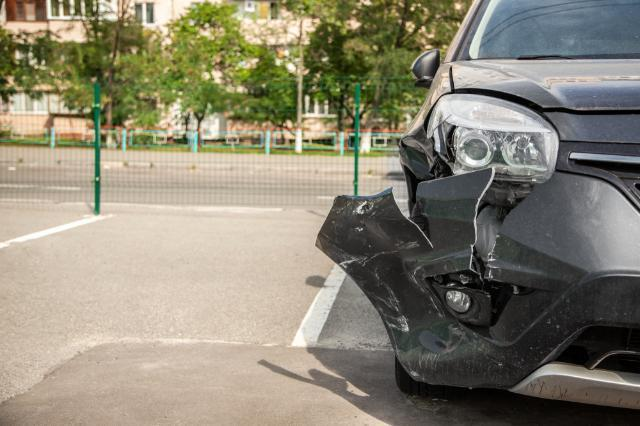crack: (468, 173, 534, 280), (391, 186, 433, 251)
dent: (378, 271, 465, 353), (400, 128, 437, 177)
dislocated part: (315, 172, 640, 411)
lamp broken: (429, 94, 555, 184)
